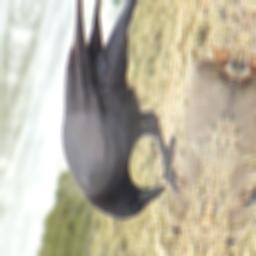Crow: (34, 0, 226, 230)
